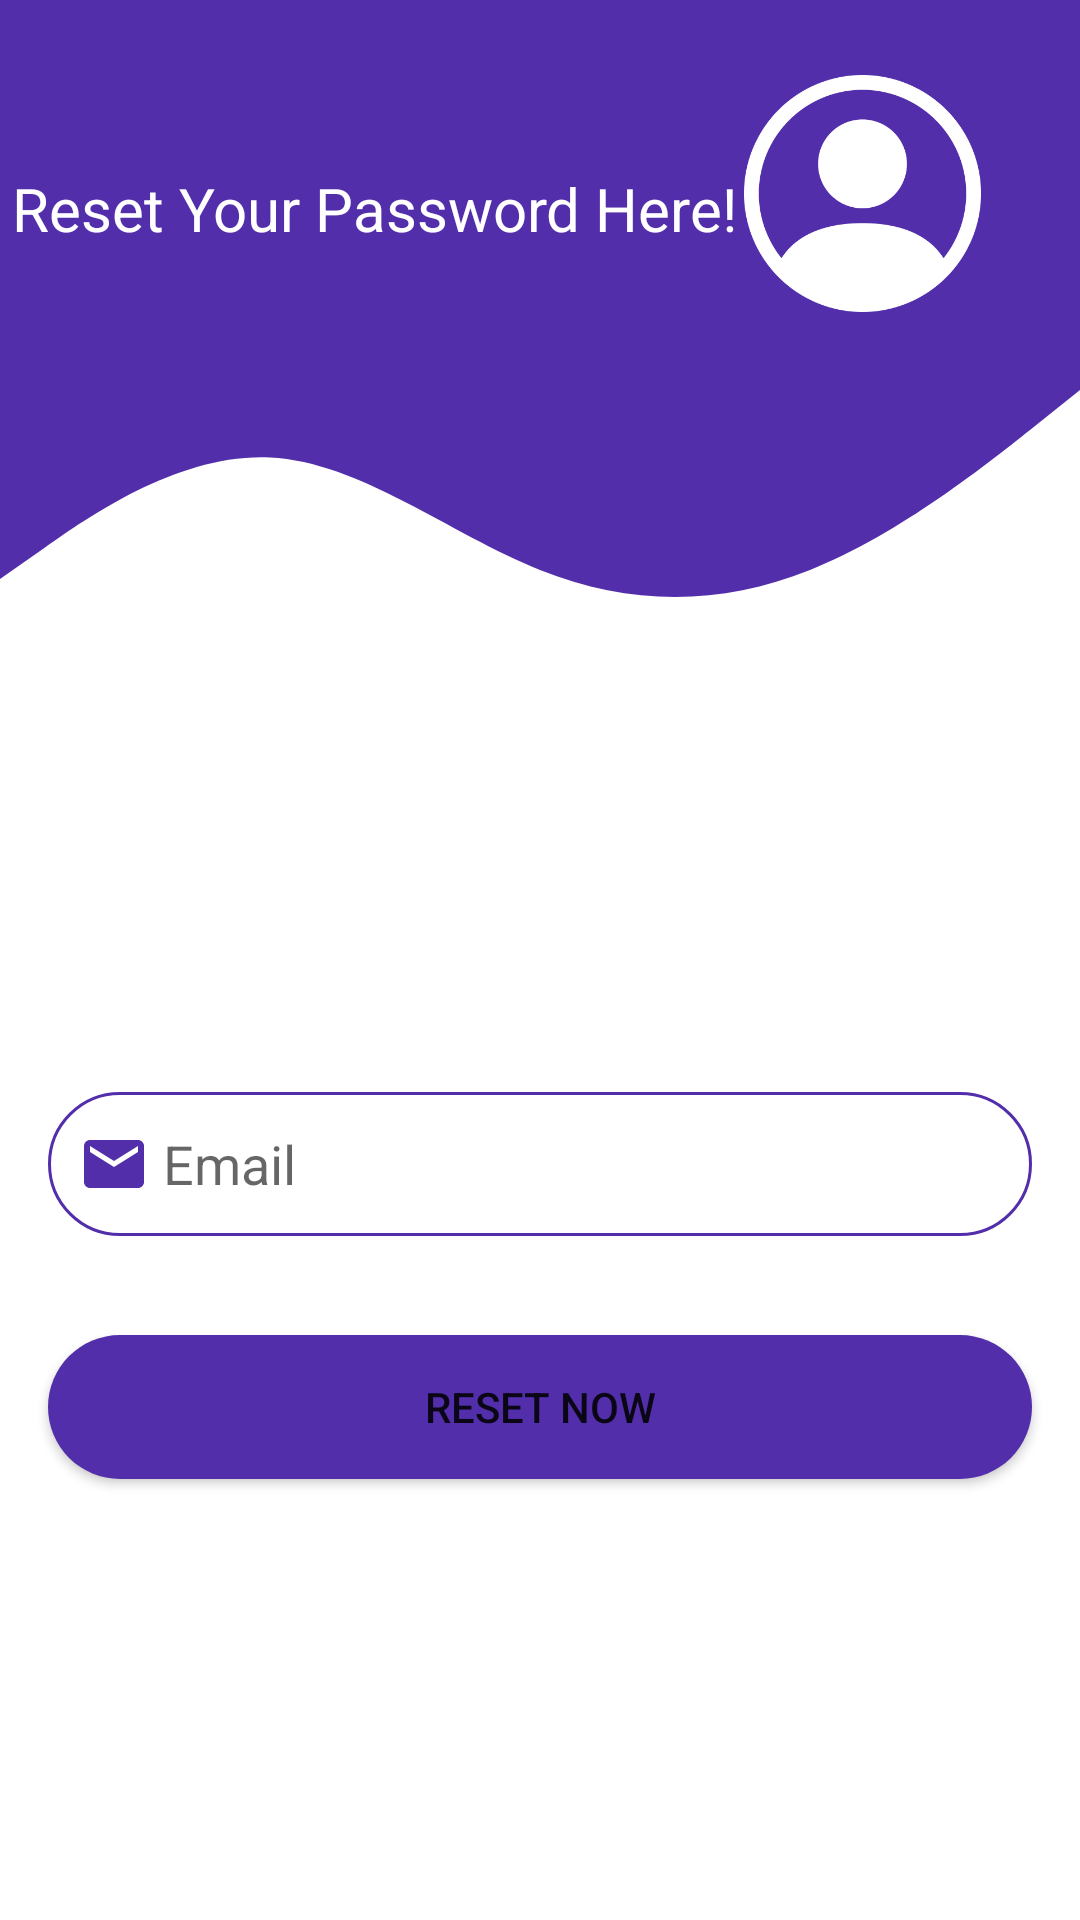

Locate icon controls on the screen. Image size 1080×1920, boxes as bbox=[x1, y1, x2, y2].
orang: bbox=[693, 75, 981, 312]
